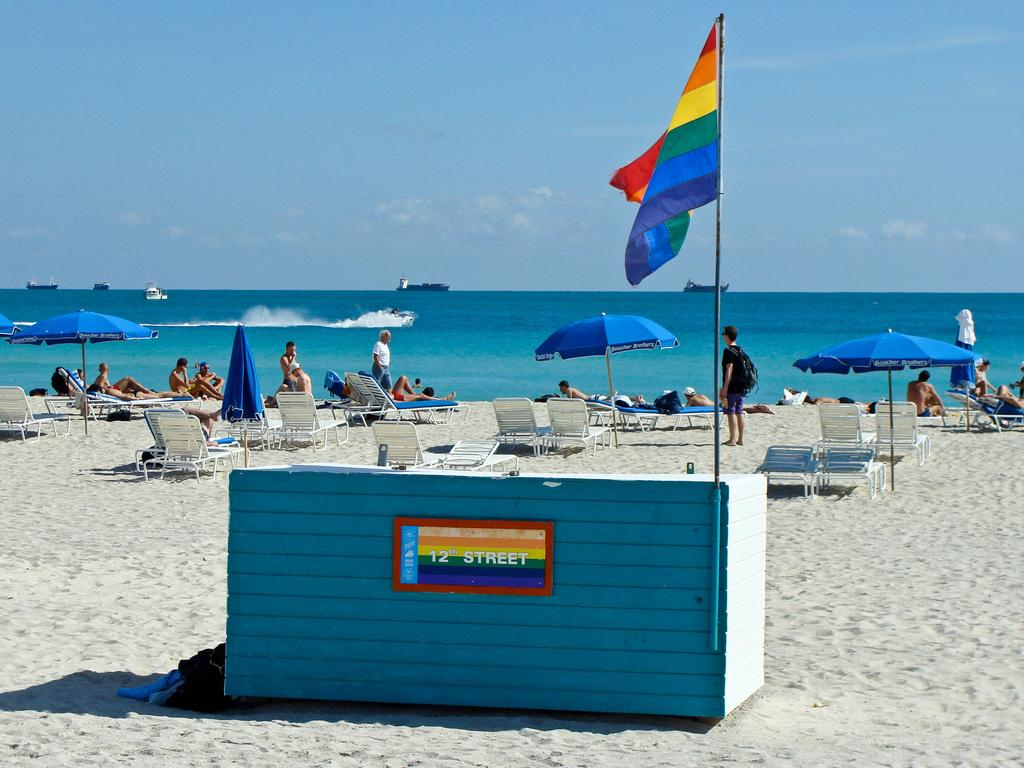umbrella: (798, 329, 986, 486)
